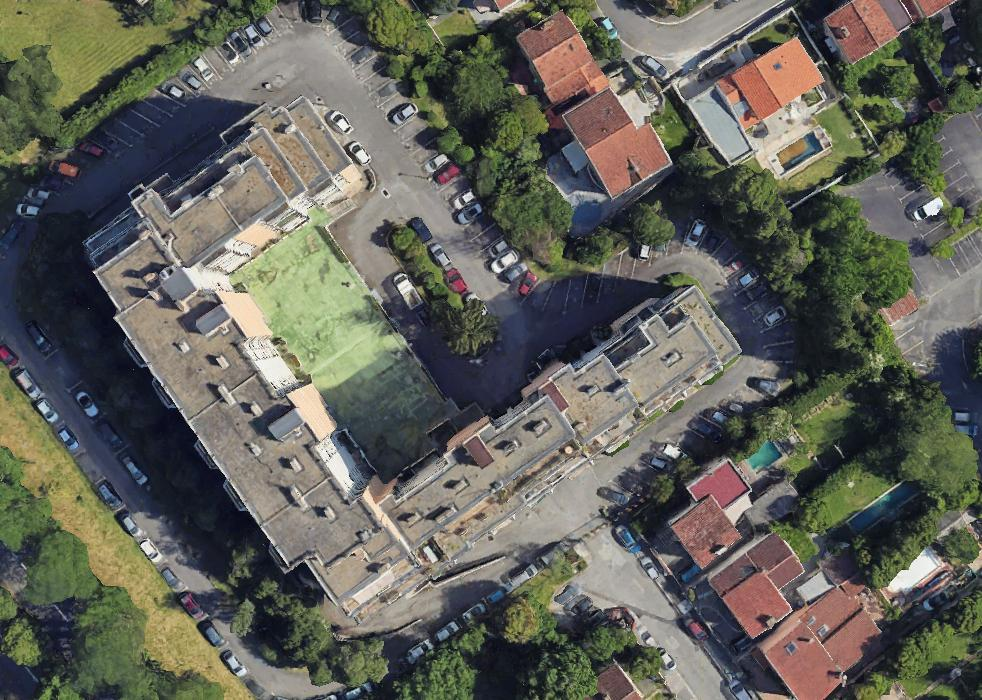immeuble: (282, 278, 750, 639), (50, 200, 428, 636), (65, 90, 368, 327)
maison: (750, 576, 891, 700), (654, 454, 773, 570), (560, 79, 672, 202), (706, 529, 821, 641), (715, 35, 824, 131), (514, 9, 607, 113), (817, 0, 914, 66), (593, 664, 641, 699), (901, 0, 955, 23), (491, 0, 517, 11)
